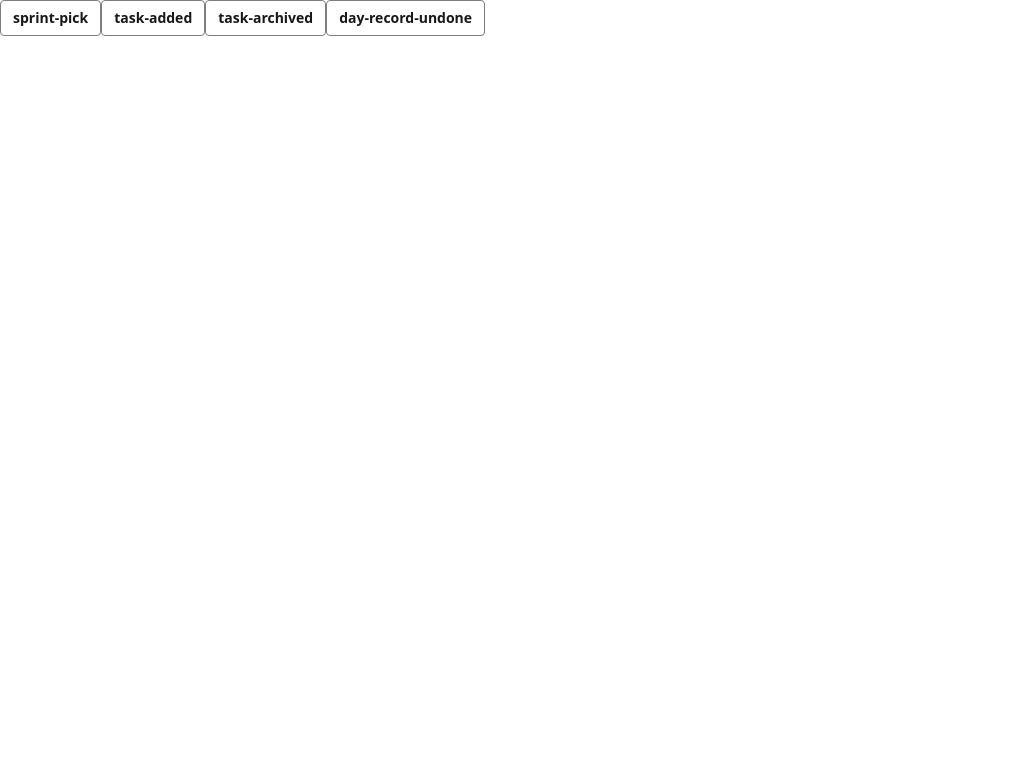
Test case: Toast › puts the replacing Toast at the newest place, and shows it past the limit
Click the button "sprint-pick". click: (51, 18)
box: [0,0,101,36]
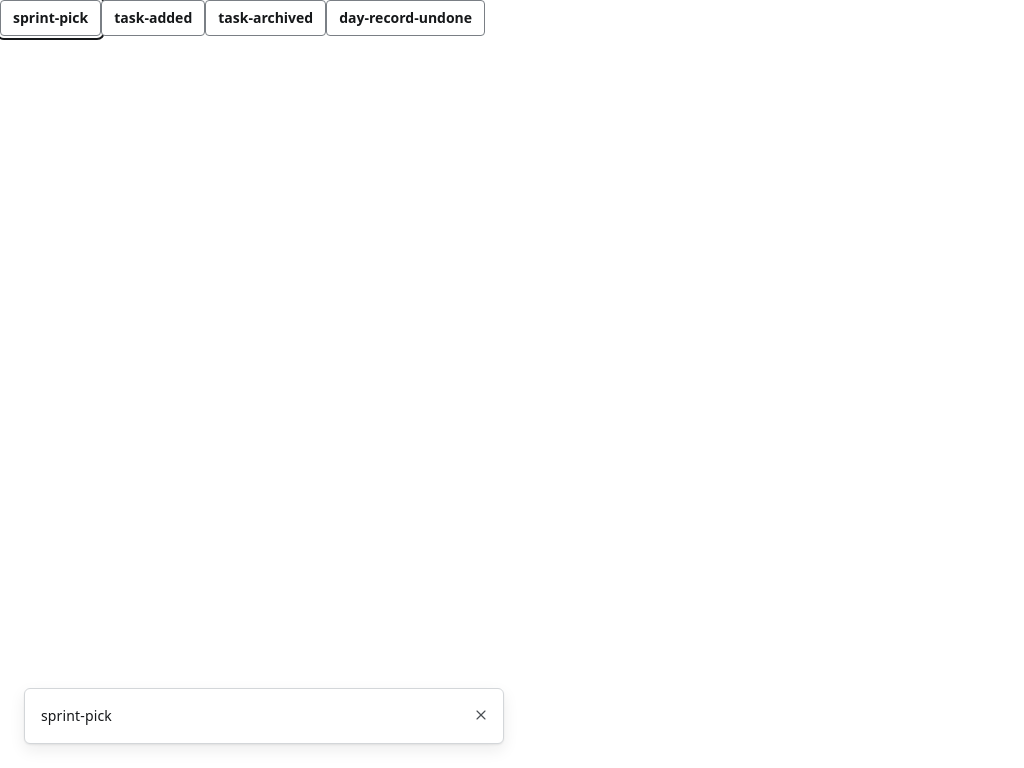
Click the button "task-added". click: (153, 18)
box: [101,0,205,36]
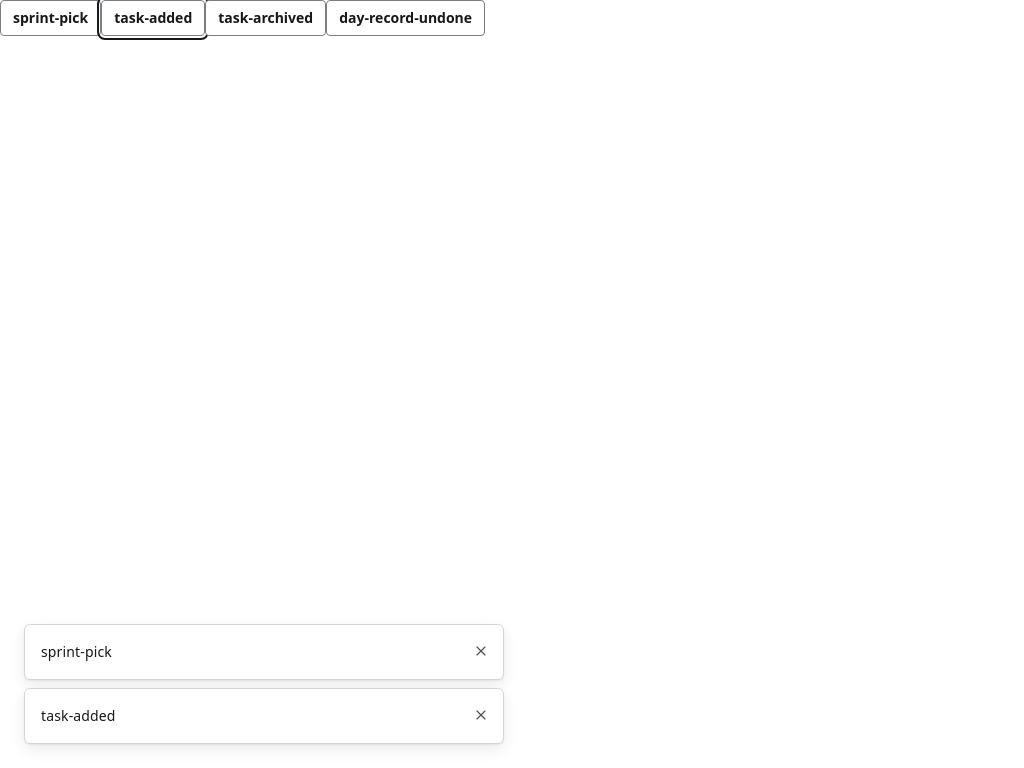
Click the button "task-archived". click: (266, 18)
box: [205,0,326,36]
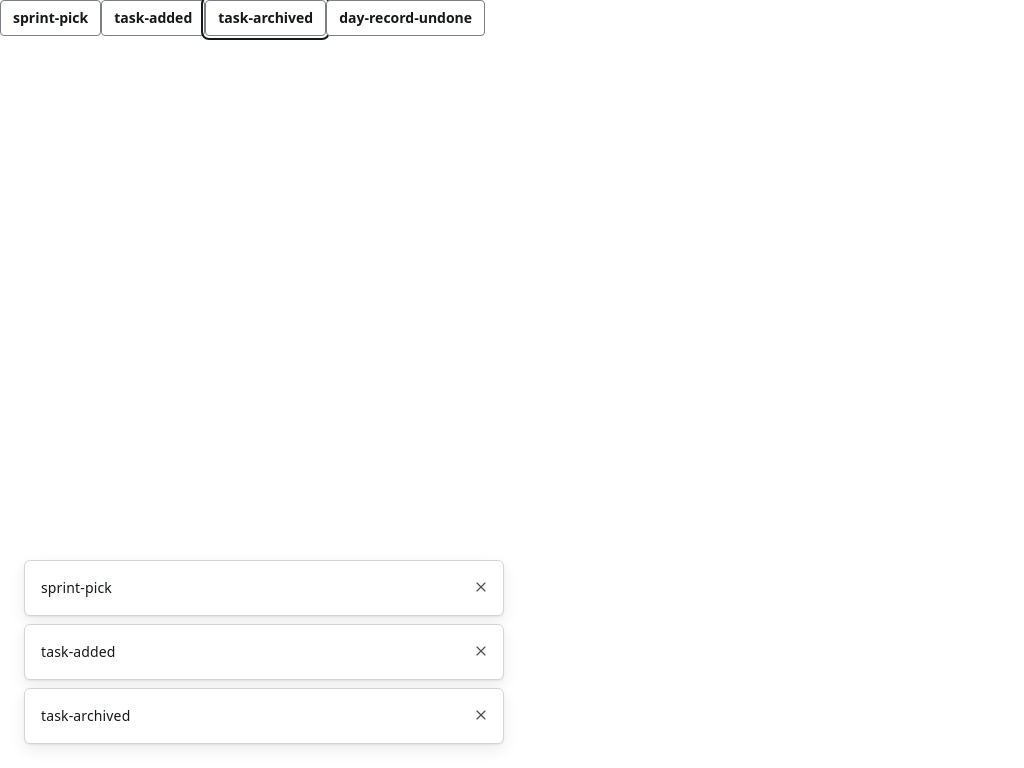
Click the button "day-record-undone". click: (406, 18)
box: [326,0,485,36]
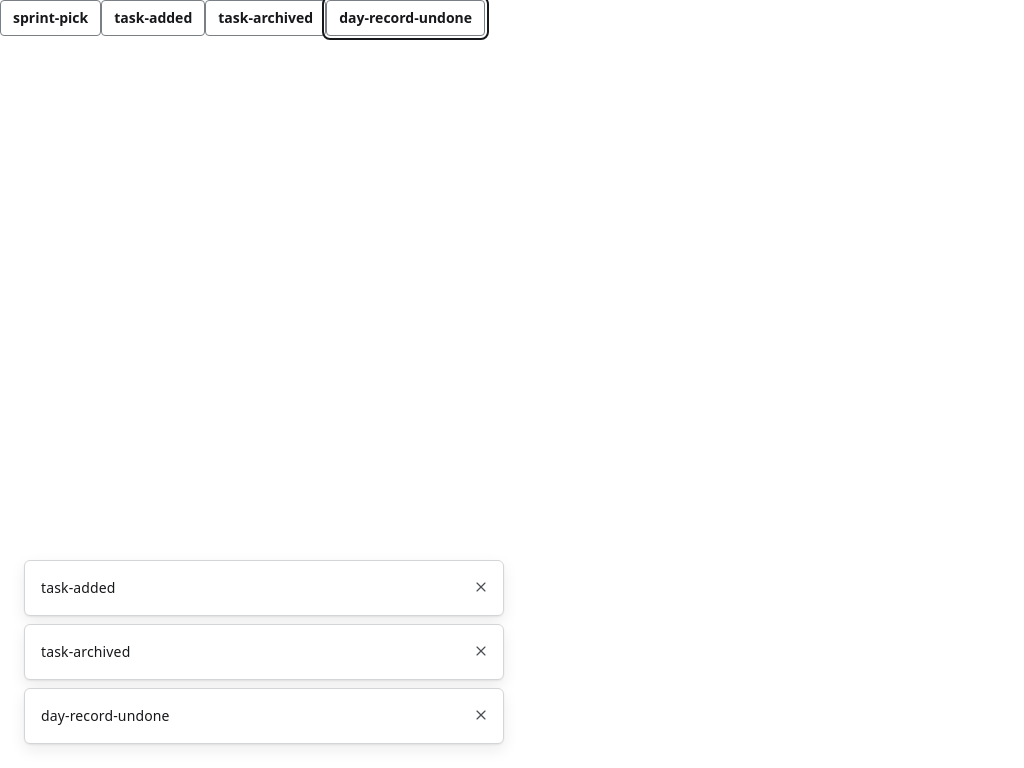
Click the button "sprint-pick". click: (51, 18)
box: [0,0,101,36]
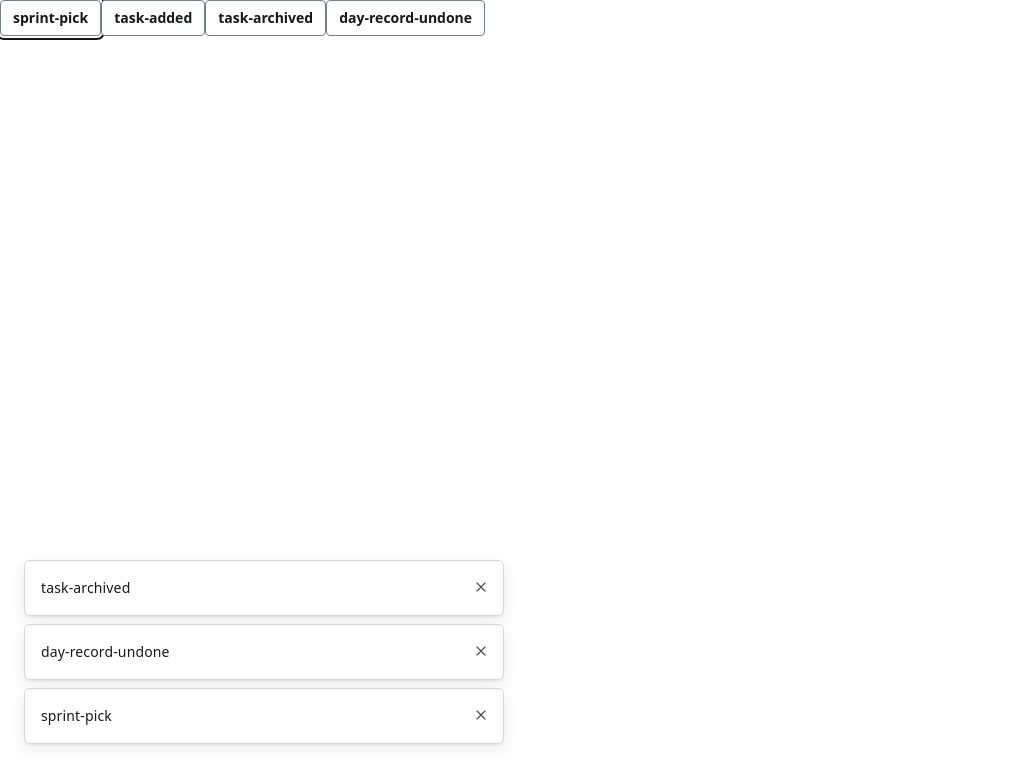
Now the dialog "sprint-pick" is shown, box [24,688,504,744]
